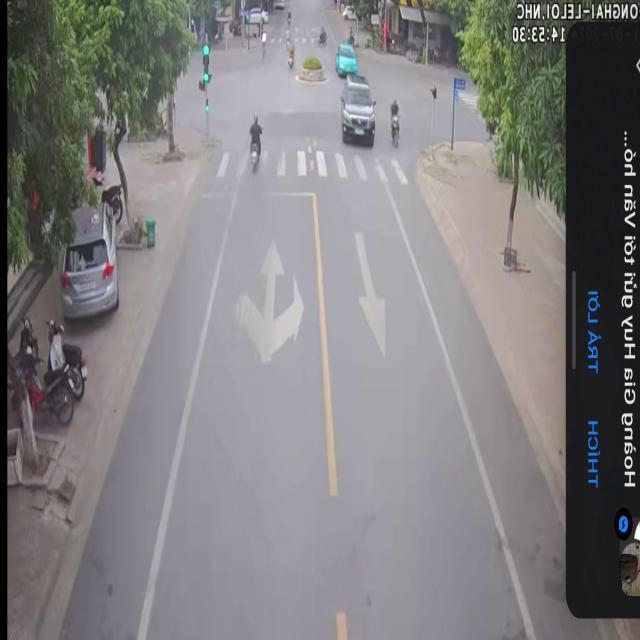car: (58, 200, 117, 317), (339, 74, 374, 145), (333, 40, 356, 76)
green_light: (200, 38, 210, 86)
motobike: (46, 318, 86, 398), (247, 114, 260, 169), (388, 98, 398, 144)
stop_line: (195, 187, 313, 198)
